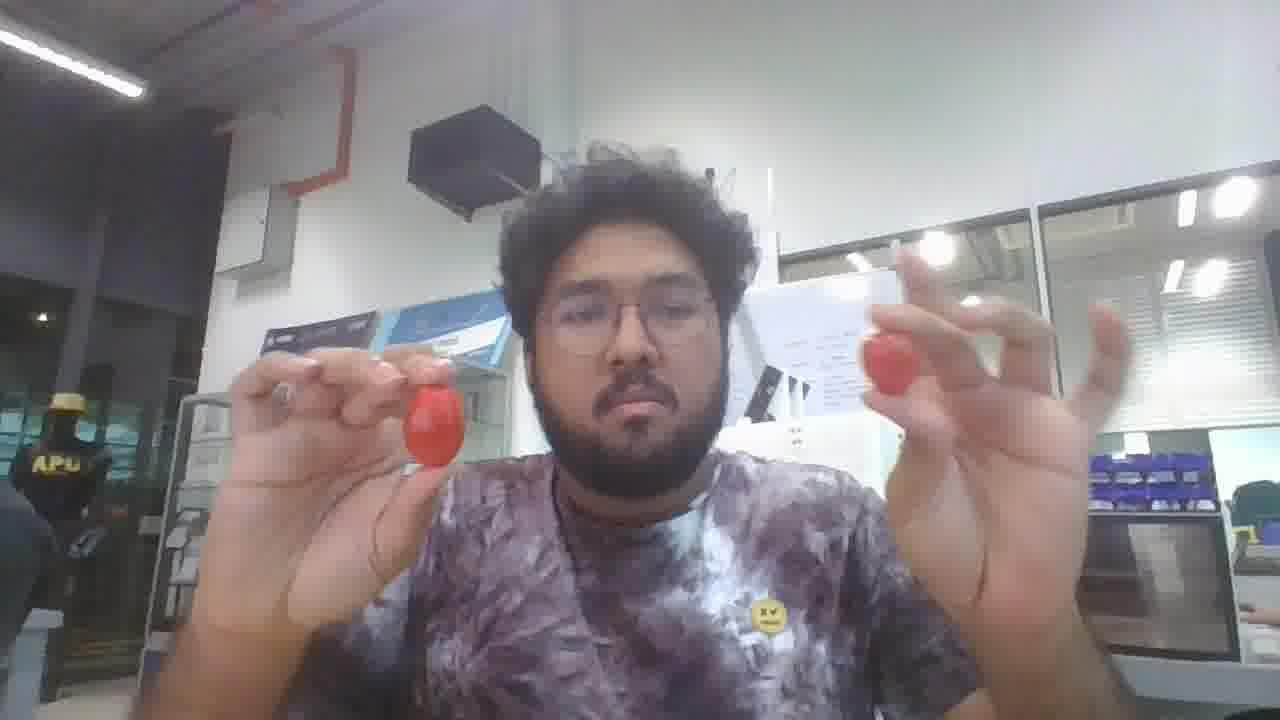red_cherry_tomato: (402, 385, 464, 467), (862, 333, 919, 395)
